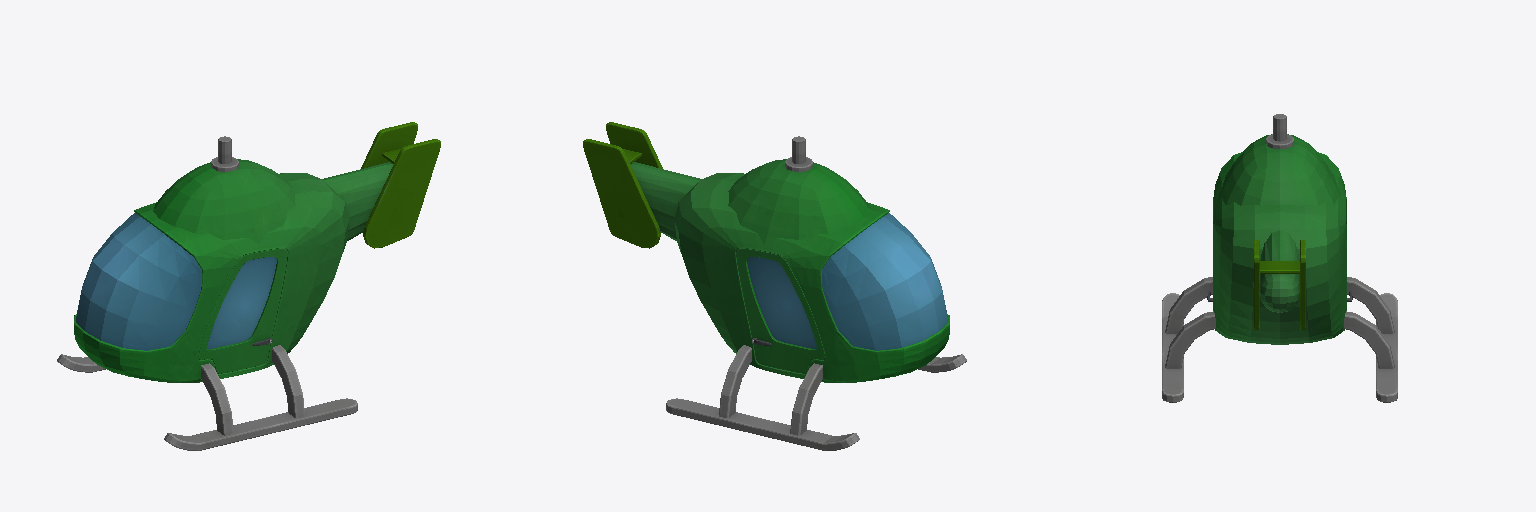
3 renders of one model, left to right at view 1: azimuth 30°, elevation 25°; view 2: azimuth 150°, elevation 25°; view 3: azimuth 270°, elevation 25°, orthographic.
Parts seen in each view (by area): view 1: Base; view 2: Base; view 3: Base.
Part boxes in pixels (left/top/right/bottom): Base: left=57, top=122, right=440, bottom=450; Base: left=583, top=122, right=966, bottom=450; Base: left=1162, top=114, right=1397, bottom=402.
Size of the model in its own units: 35.73 by 24.58 by 21.14.
Materials: 1 (1 with a texture image).